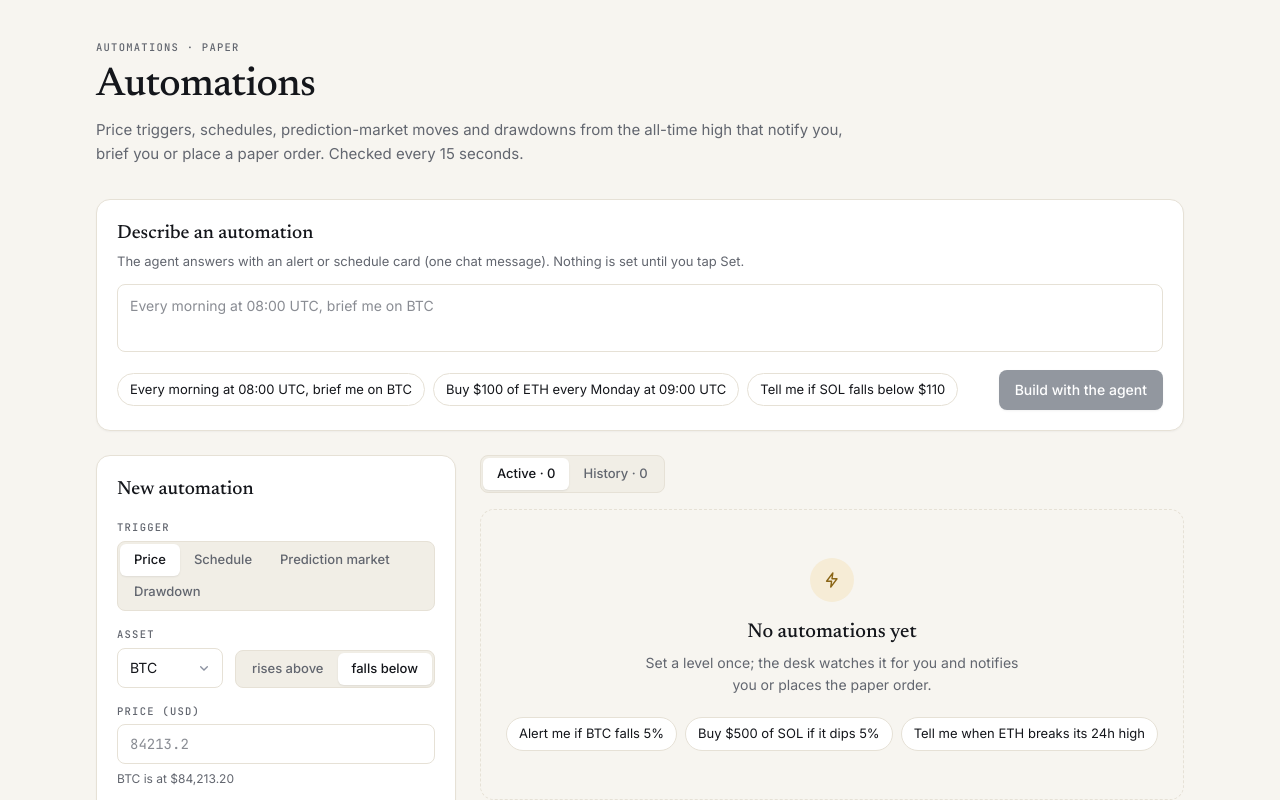
Test: AutomationsPage › starts from an empty state whose chips prefill the form from live prices
This screenshot has width=1280, height=800.
Expected: the heading "No automations yet" is shown, [747,618,917,646]
Click the button "Buy $500 of SOL if it dips 5%" at (789, 734), box [685,717,893,751]
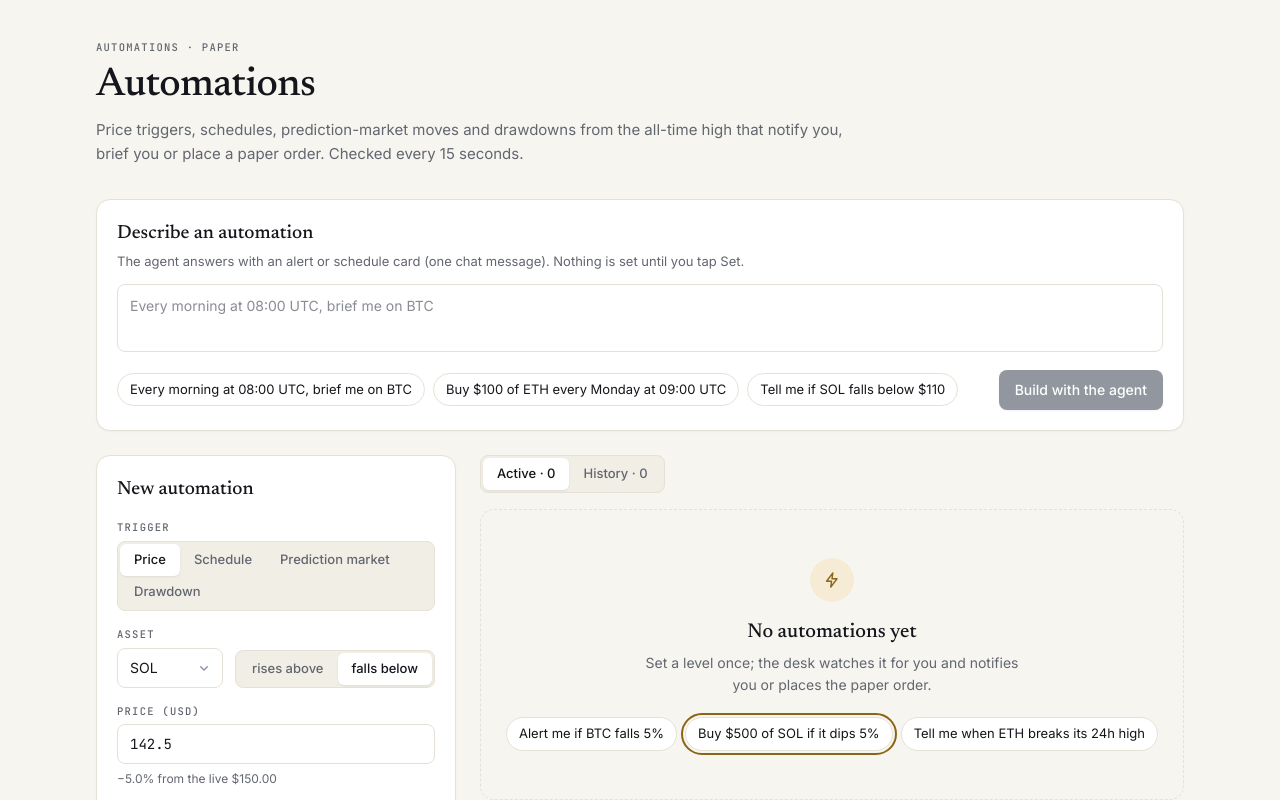
Result: the dropdown labelled "Asset" shows "SOL" at [117,648,223,688]
Result: the number field labelled "Price (USD)" holds "142.5" at [117,724,435,764]
Click the button "Alert me if BTC falls 5%" at (592, 734), box [506,717,677,751]
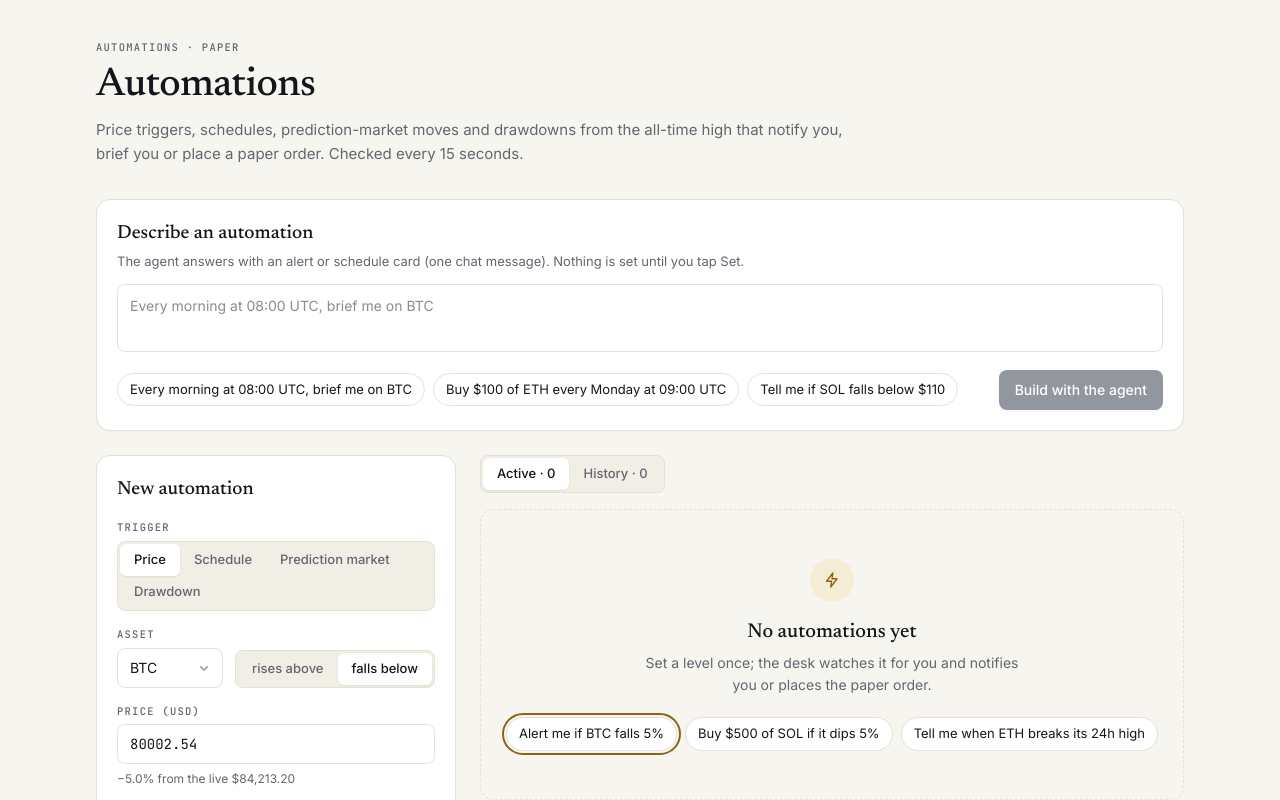
Result: the dropdown labelled "Asset" shows "BTC" at [117,648,223,688]
Result: the number field labelled "Price (USD)" holds "80002.54" at [117,724,435,764]
Click the button "Tell me when ETH breaks its 24h high" at (1029, 734), box [901,717,1158,751]
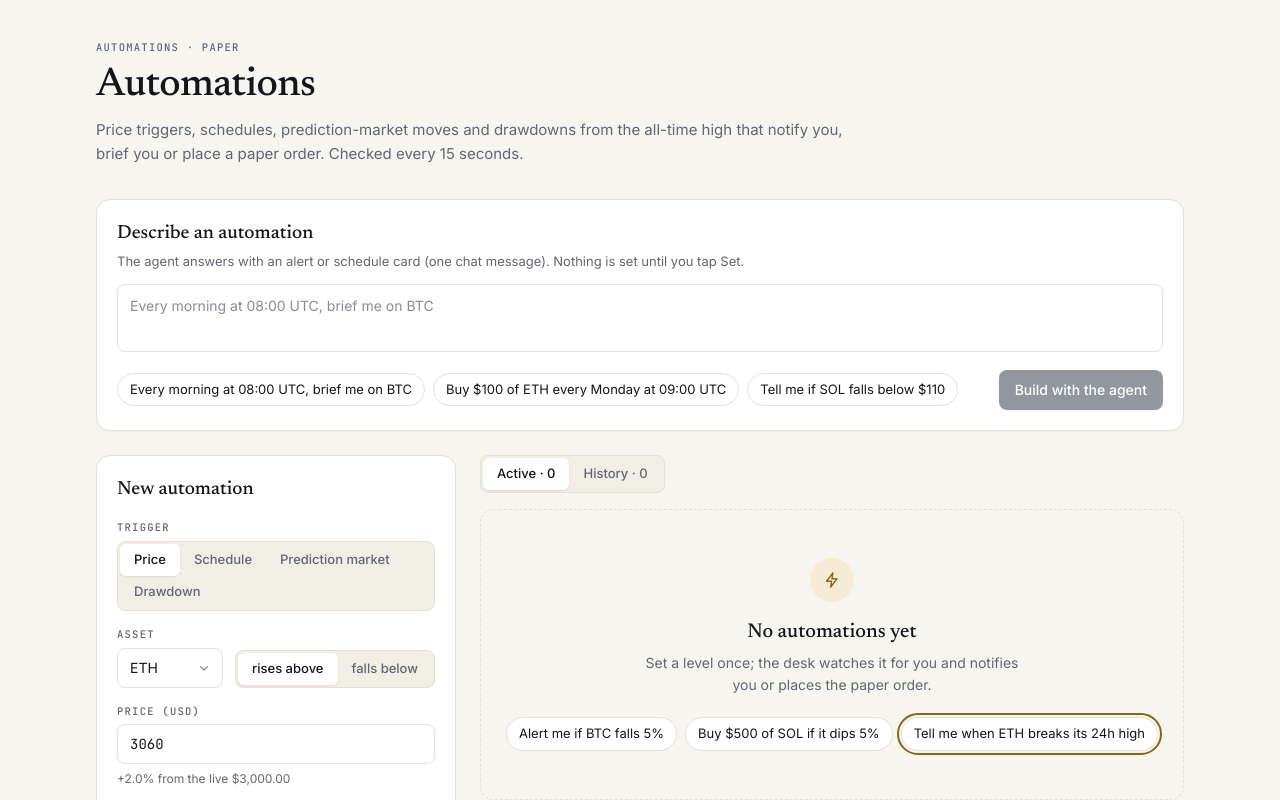
Result: the dropdown labelled "Asset" shows "ETH" at [117,648,223,688]
Result: the number field labelled "Price (USD)" holds "3060" at [117,724,435,764]
